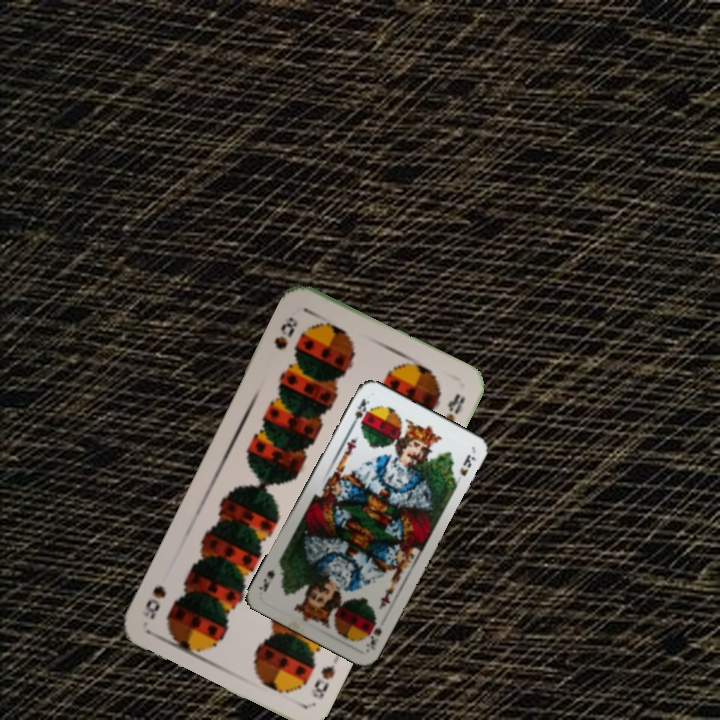S8: (307, 660, 338, 702), (270, 313, 300, 353)
SK: (346, 394, 373, 431), (361, 613, 385, 653)
